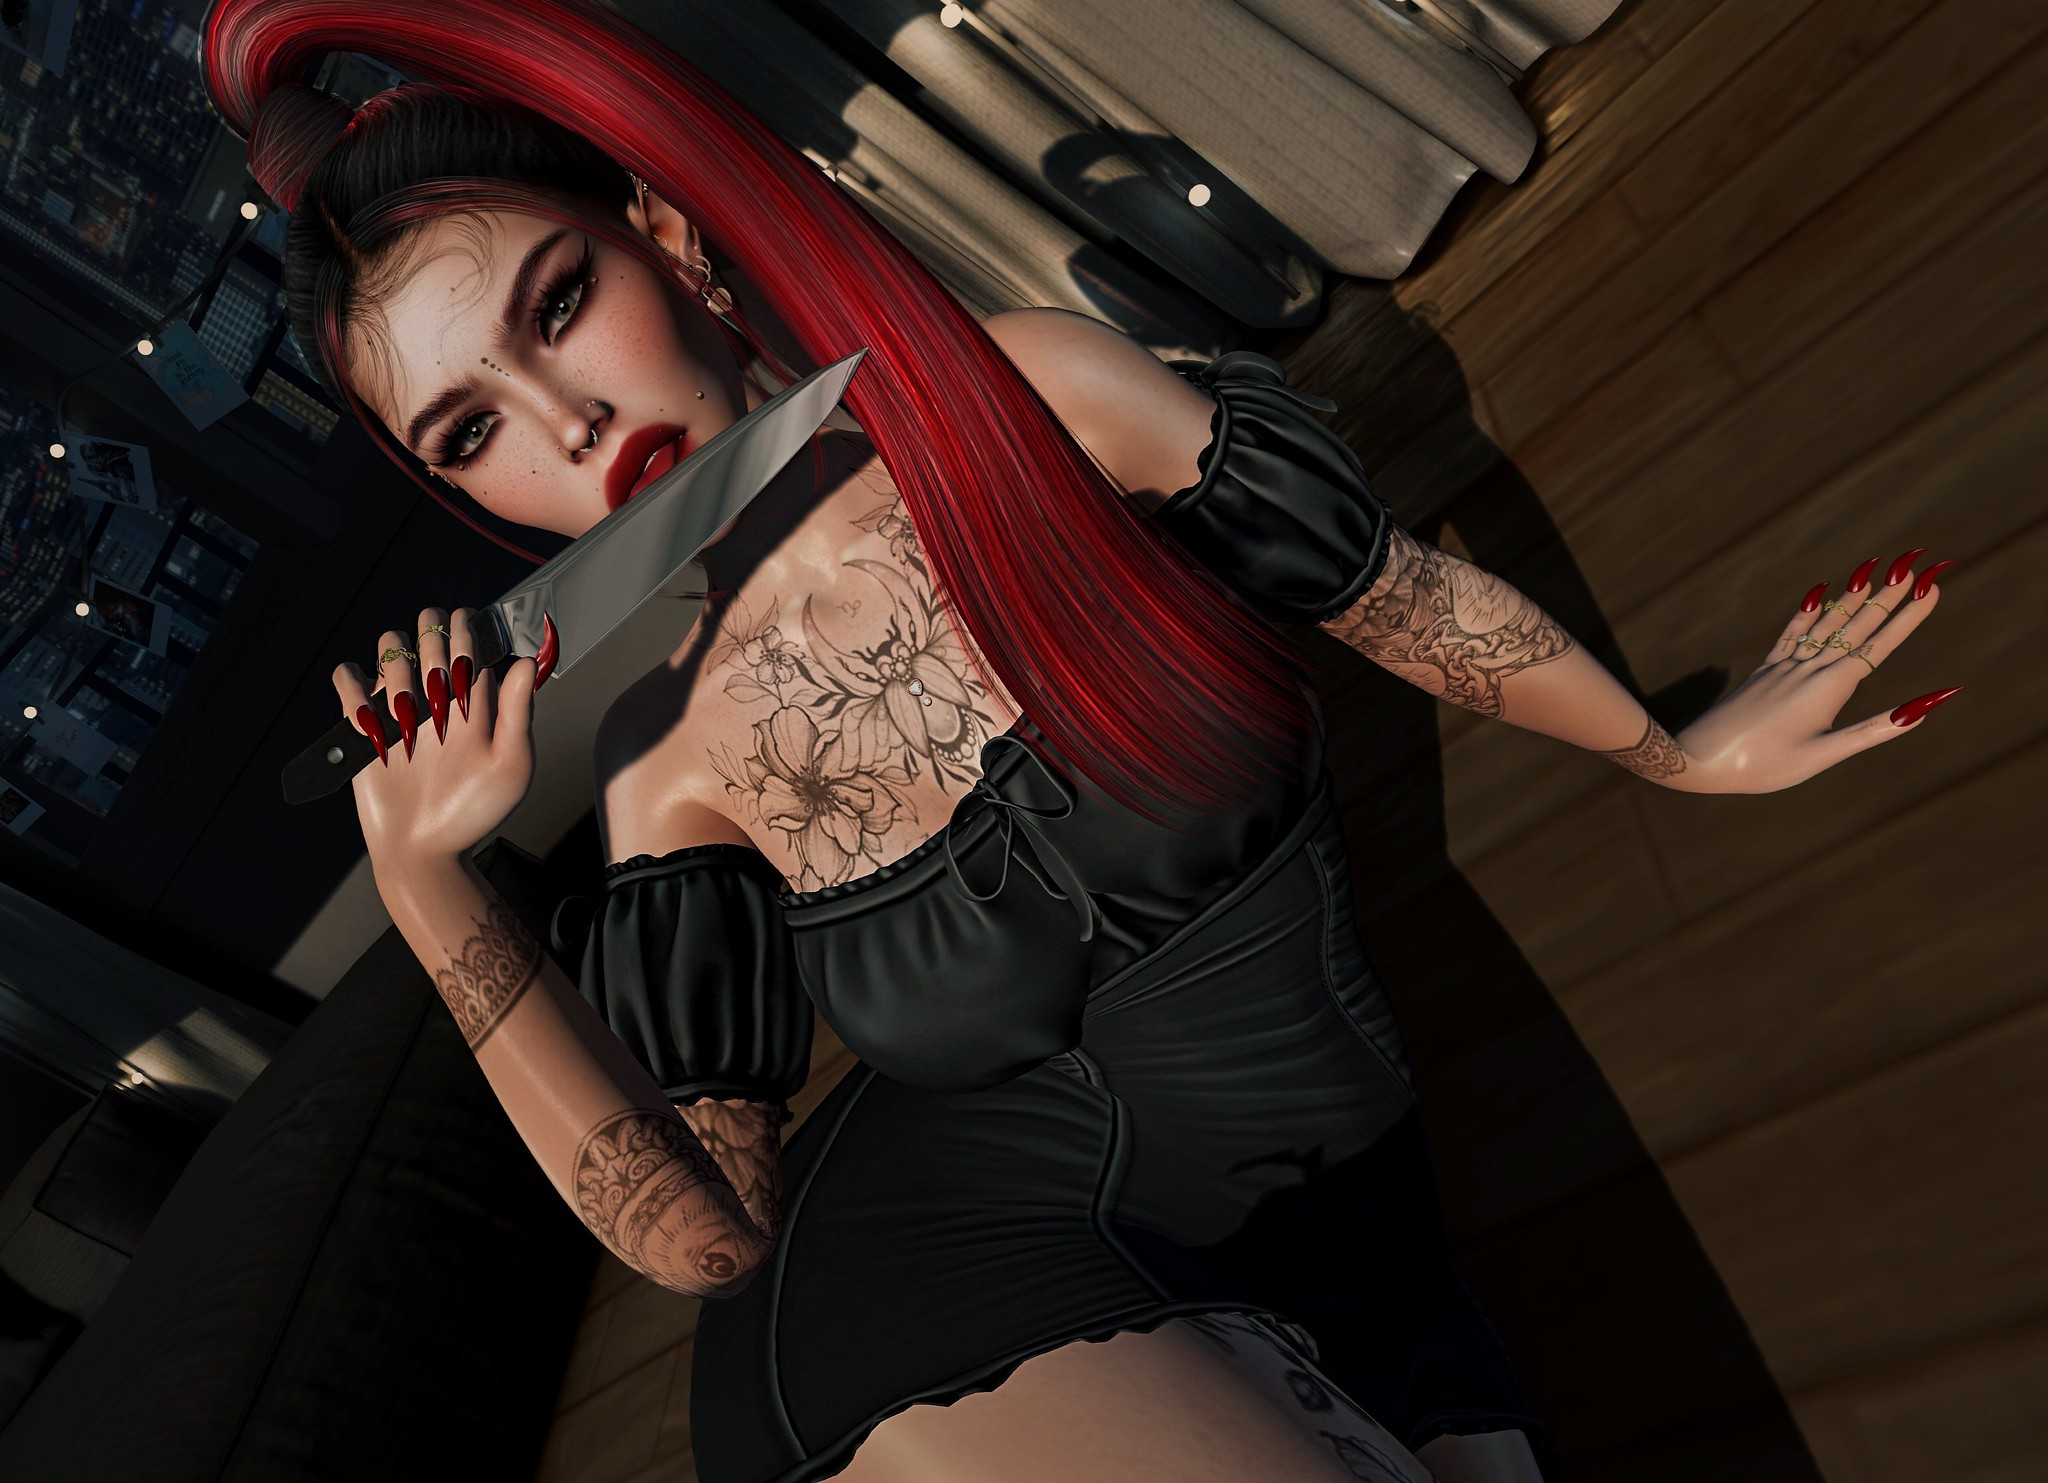knife: (319, 341, 876, 794)
person: (100, 9, 1972, 1483)
